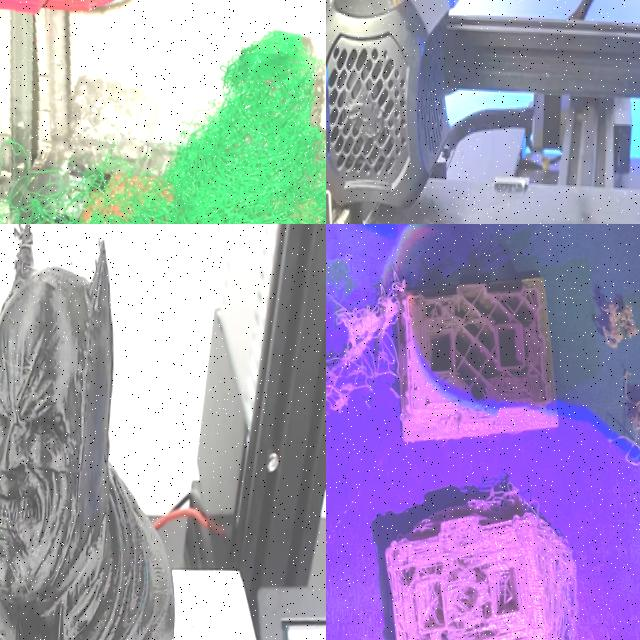spaghetti: (0, 0, 326, 224), (434, 483, 597, 640), (326, 224, 408, 464), (579, 282, 640, 447)
